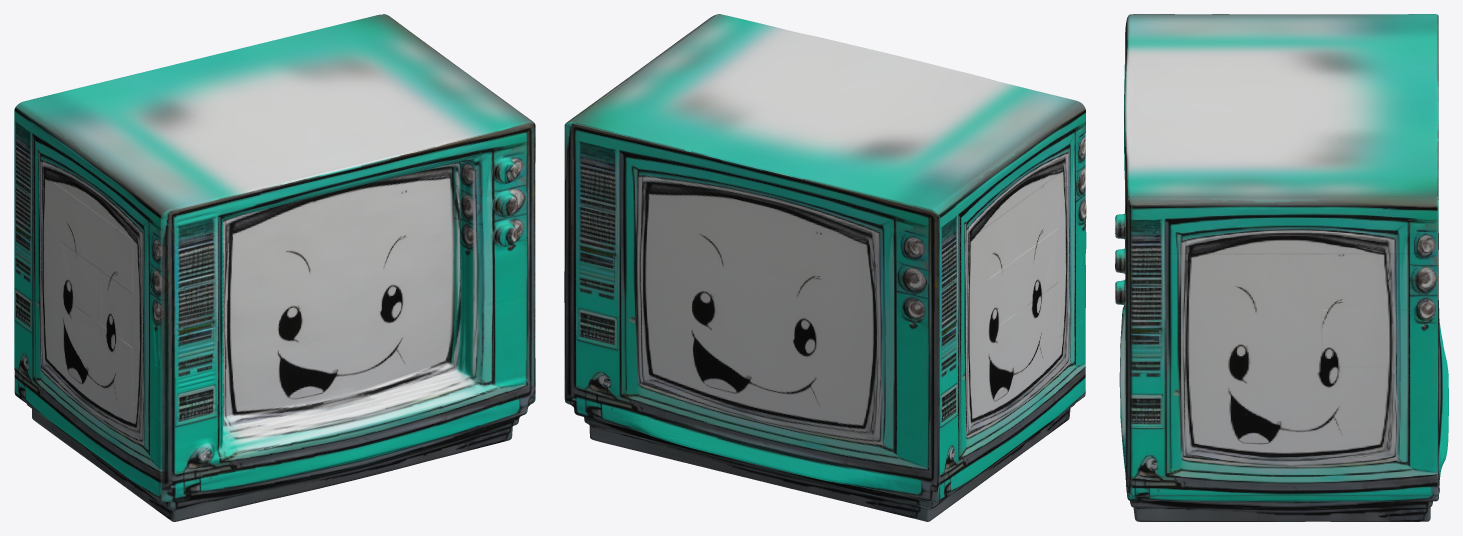
Rendered from tv_mount.glb.
The picture shows the model from 3 angles, left to right: view 1: azimuth 30°, elevation 25°; view 2: azimuth 150°, elevation 25°; view 3: azimuth 270°, elevation 25°; orthographic projection. The views are drawn at different scales.
Visible parts, largest first — view 1: tv_mount; view 2: tv_mount; view 3: tv_mount.
Part boxes in pixels (x1,y1,x2,y2): tv_mount: (14, 14, 535, 521); tv_mount: (564, 14, 1086, 521); tv_mount: (1115, 14, 1448, 521).
Size of the model in its own units: 0.4438 by 0.3573 by 0.3256.
Materials: 1 (1 with a texture image).
